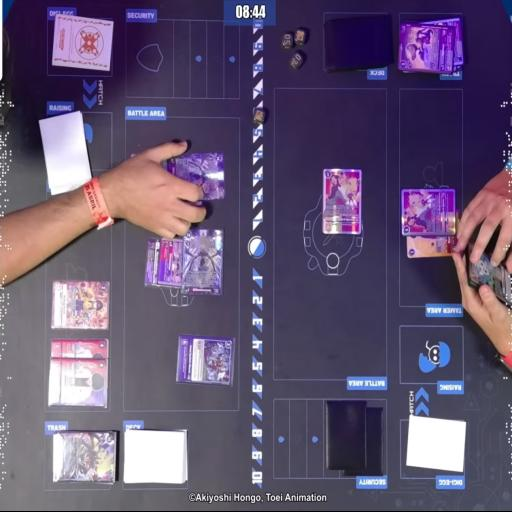card: (54, 428, 118, 484), (44, 358, 110, 409), (466, 239, 512, 312), (180, 225, 224, 301), (155, 152, 226, 198), (50, 276, 109, 331), (175, 336, 236, 384), (321, 168, 364, 236), (396, 27, 458, 71), (405, 211, 459, 261), (399, 188, 454, 235), (158, 236, 186, 289), (49, 340, 112, 360), (144, 235, 164, 287), (448, 16, 466, 66)
